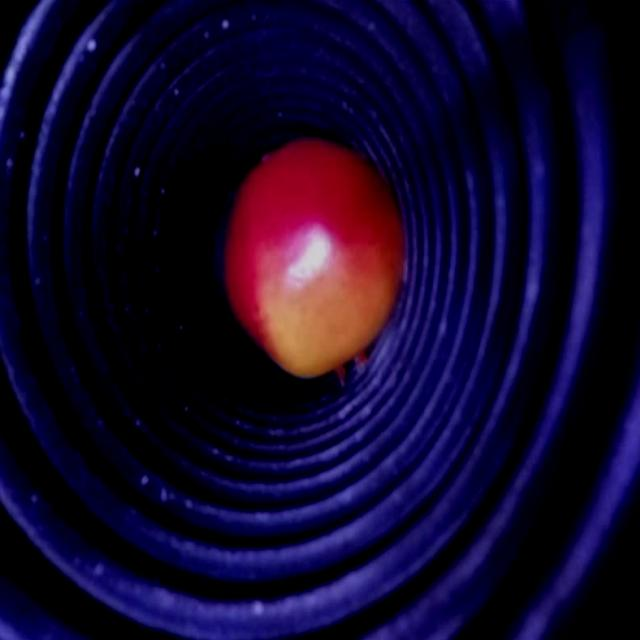obstacles: (227, 133, 407, 379)
